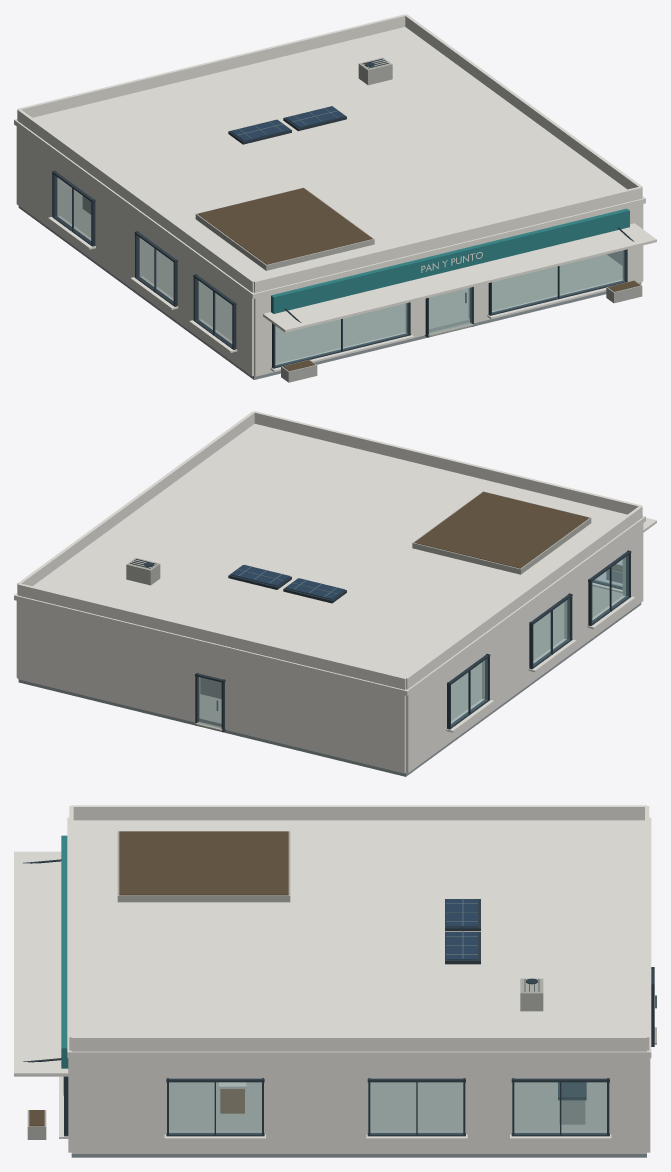
Rendered from Shop_0.fbx.
The picture shows the model from 3 angles, top to bottom: view 1: azimuth 30°, elevation 25°; view 2: azimuth 150°, elevation 25°; view 3: azimuth 270°, elevation 25°; orthographic projection. The views are drawn at different scales.
Visible parts, largest first — view 1: Shop_0.076; view 2: Shop_0.076; view 3: Shop_0.076.
Part boxes in pixels (box(x1,y1,x2,y2)): Shop_0.076: box(14, 14, 656, 382); Shop_0.076: box(14, 411, 656, 776); Shop_0.076: box(14, 805, 656, 1157).
Bounding box in the file's own units: 19.87 × 4.87 × 22.35.
